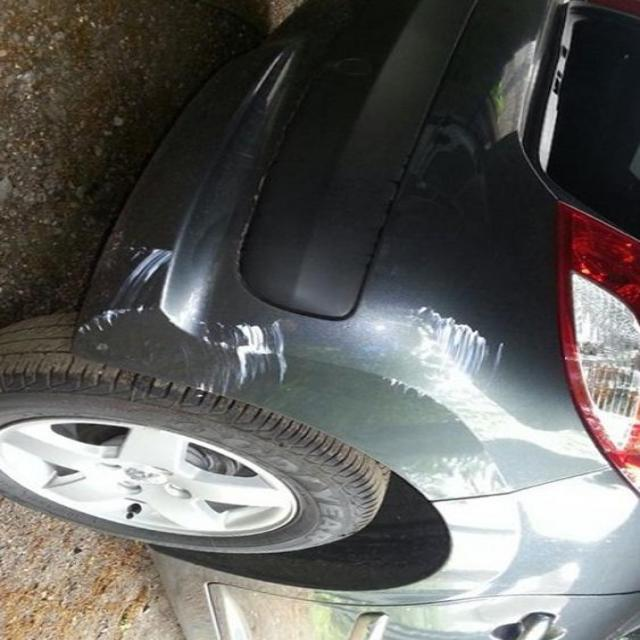scratch: (82, 242, 298, 414), (364, 300, 519, 417)
